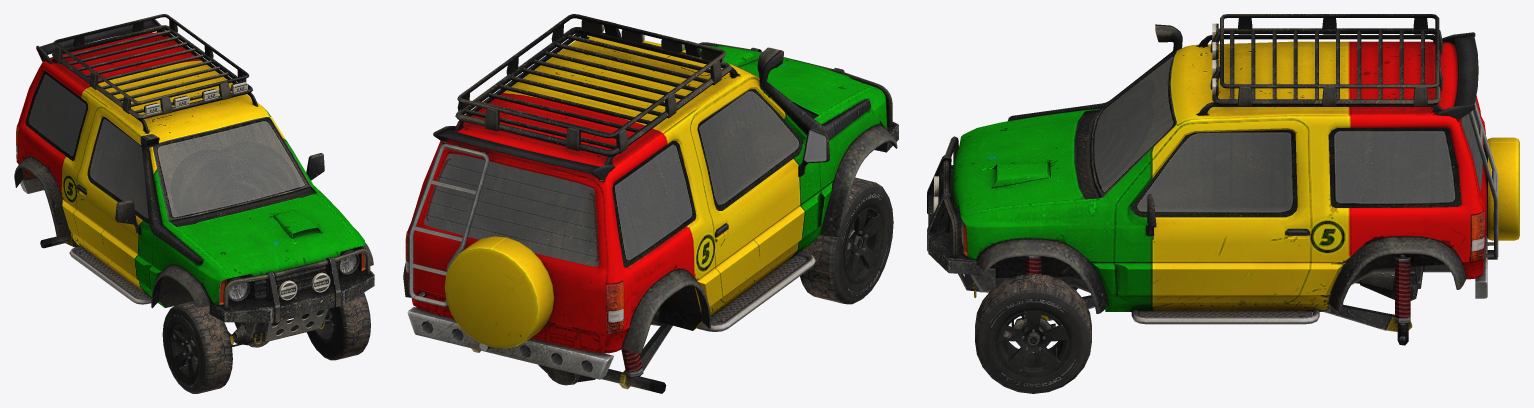
Rendered from OffroaderFireball_Jeep.FBX.
3 renders of one model, left to right at view 1: azimuth 30°, elevation 25°; view 2: azimuth 150°, elevation 25°; view 3: azimuth 270°, elevation 25°, orthographic. The views are drawn at different scales.
Visible parts, largest first — view 1: Jules_Jeep, Jules_Jeep_Wheel-1, Jules_Jeep_Wheel-2; view 2: Jules_Jeep, Jules_Jeep_Wheel-1; view 3: Jules_Jeep, Jules_Jeep_Wheel-2.
Boxes of the visible parts, x1,y1,x2,y2 form: Jules_Jeep: (14, 14, 374, 353); Jules_Jeep_Wheel-1: (162, 301, 232, 393); Jules_Jeep_Wheel-2: (307, 292, 370, 360); Jules_Jeep: (403, 14, 898, 393); Jules_Jeep_Wheel-1: (800, 177, 893, 304); Jules_Jeep: (927, 14, 1519, 345); Jules_Jeep_Wheel-2: (975, 273, 1091, 393).
Size of the model in its own units: 11.71 by 12.3 by 22.46.
Materials: 1 (1 with a texture image).
